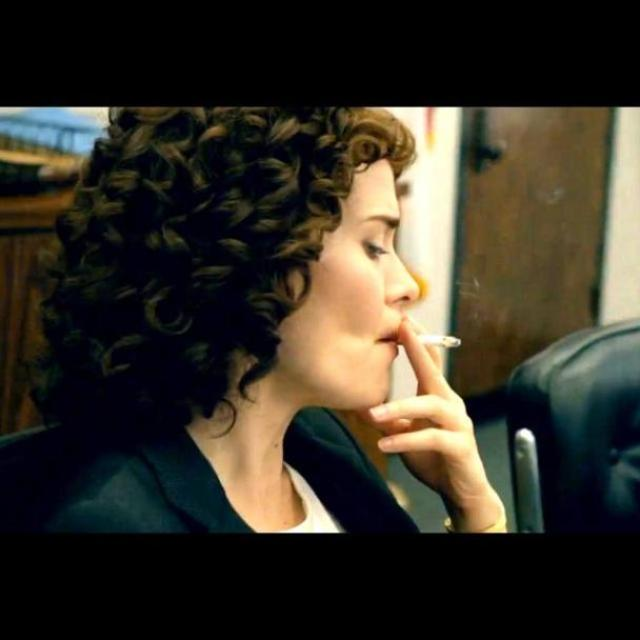rokok: (386, 324, 466, 354)
